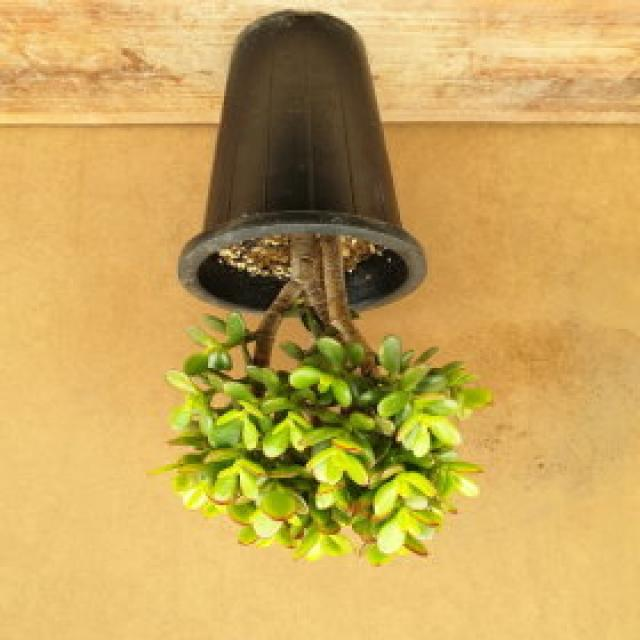Crassula: (159, 409, 298, 544), (168, 346, 316, 442), (375, 337, 480, 458), (372, 448, 479, 555), (264, 412, 394, 485), (275, 478, 376, 558), (185, 306, 290, 376), (290, 336, 386, 412), (168, 371, 191, 394)
